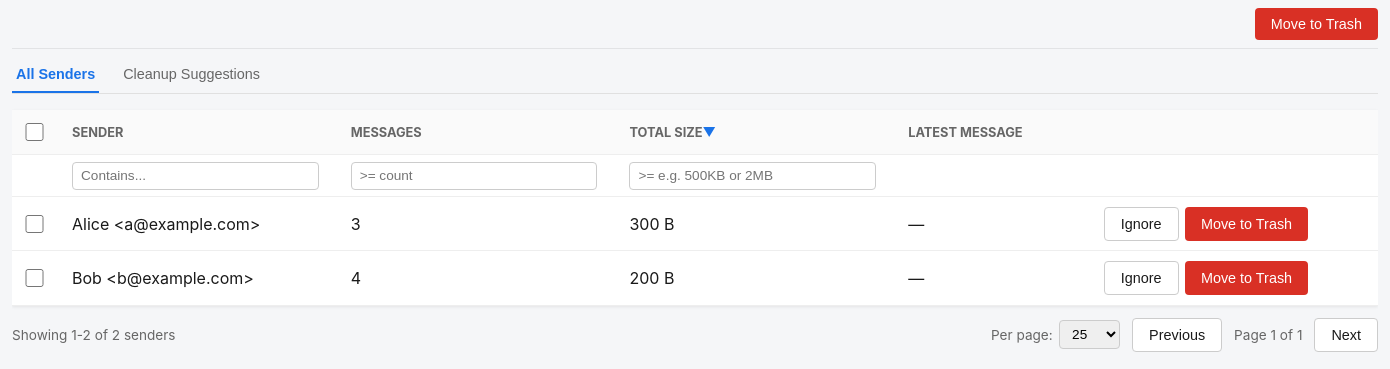
it: Move to Trash toolbar › selects and deselects every visible sender via the header checkbox
Click the checkbox named "Select all senders on this page".
click(34, 132)  # box [25, 123, 44, 141]
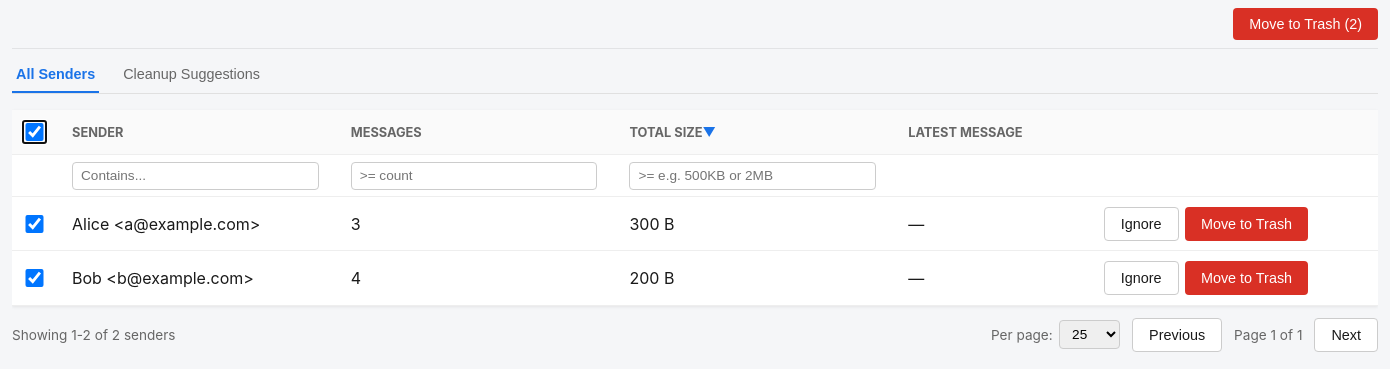
Expected: the checkbox named "Select Alice" is checked, [25, 214, 44, 233]
Expected: the checkbox named "Select Bob" is checked, [25, 269, 44, 287]
Expected: the button with aria-label "Move selected senders to Trash" reads "Move to Trash (2)", [1233, 8, 1378, 40]
Click the checkbox named "Select all senders on this page".
click(34, 132)  # box [25, 123, 44, 141]
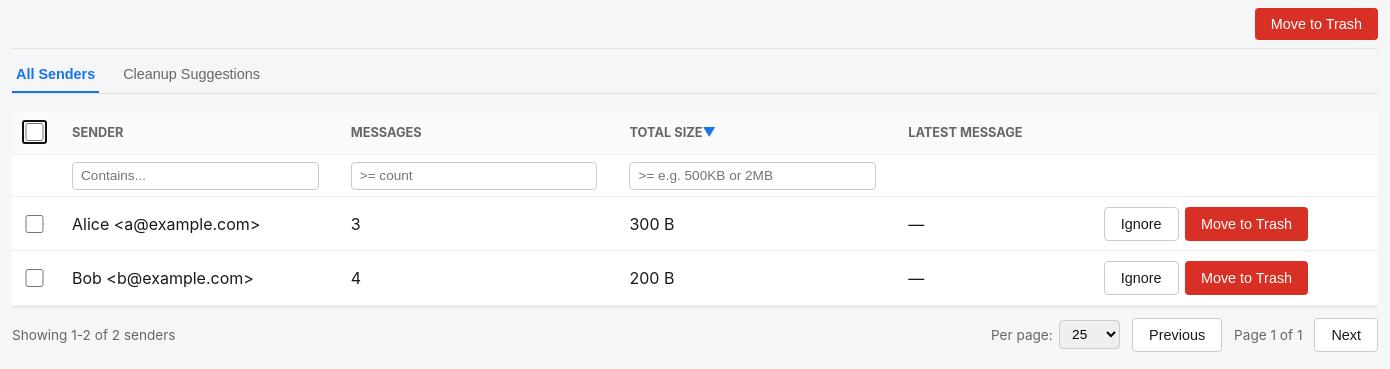
Expected: the checkbox named "Select Alice" is not checked, [25, 214, 44, 233]
Expected: the checkbox named "Select Bob" is not checked, [25, 269, 44, 287]
Expected: the button with aria-label "Move selected senders to Trash" is disabled, [1255, 8, 1378, 40]
